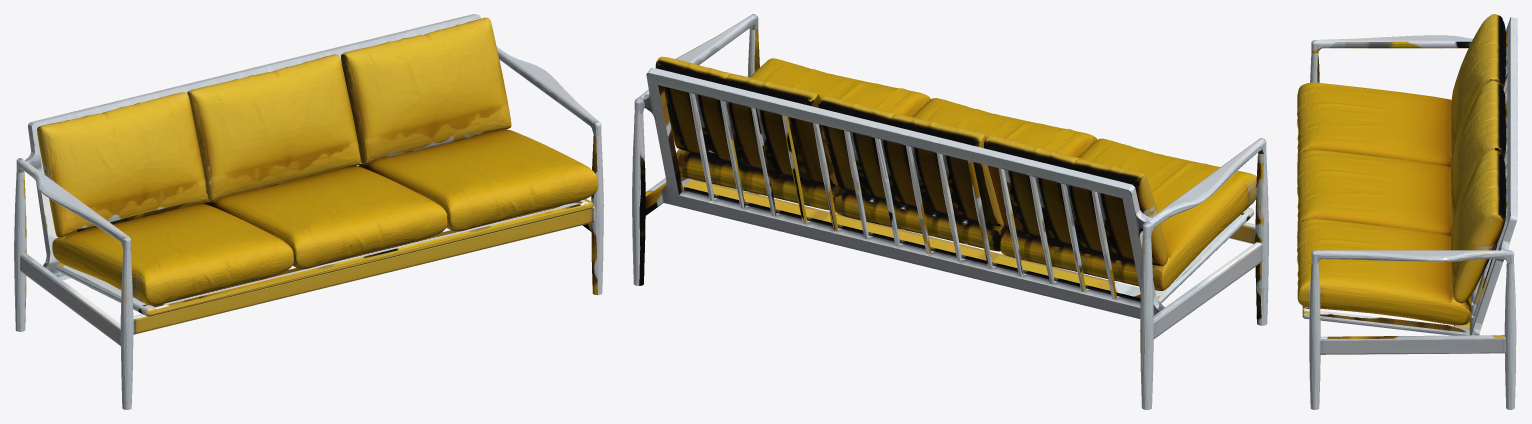
Rendered from edited_mesh.glb.
The picture shows the model from 3 angles, left to right: view 1: azimuth 30°, elevation 25°; view 2: azimuth 150°, elevation 25°; view 3: azimuth 270°, elevation 25°; orthographic projection. The views are drawn at different scales.
Parts seen in each view (by area): view 1: solid_001_wire; view 2: solid_001_wire; view 3: solid_001_wire.
Boxes of the visible parts, bbox=[...] form: solid_001_wire: bbox=[14, 14, 603, 409]; solid_001_wire: bbox=[632, 14, 1268, 409]; solid_001_wire: bbox=[1297, 14, 1517, 409].
Bounding box in the file's own units: 2 × 0.7861 × 0.8303.
Materials: 1 (1 with a texture image).
